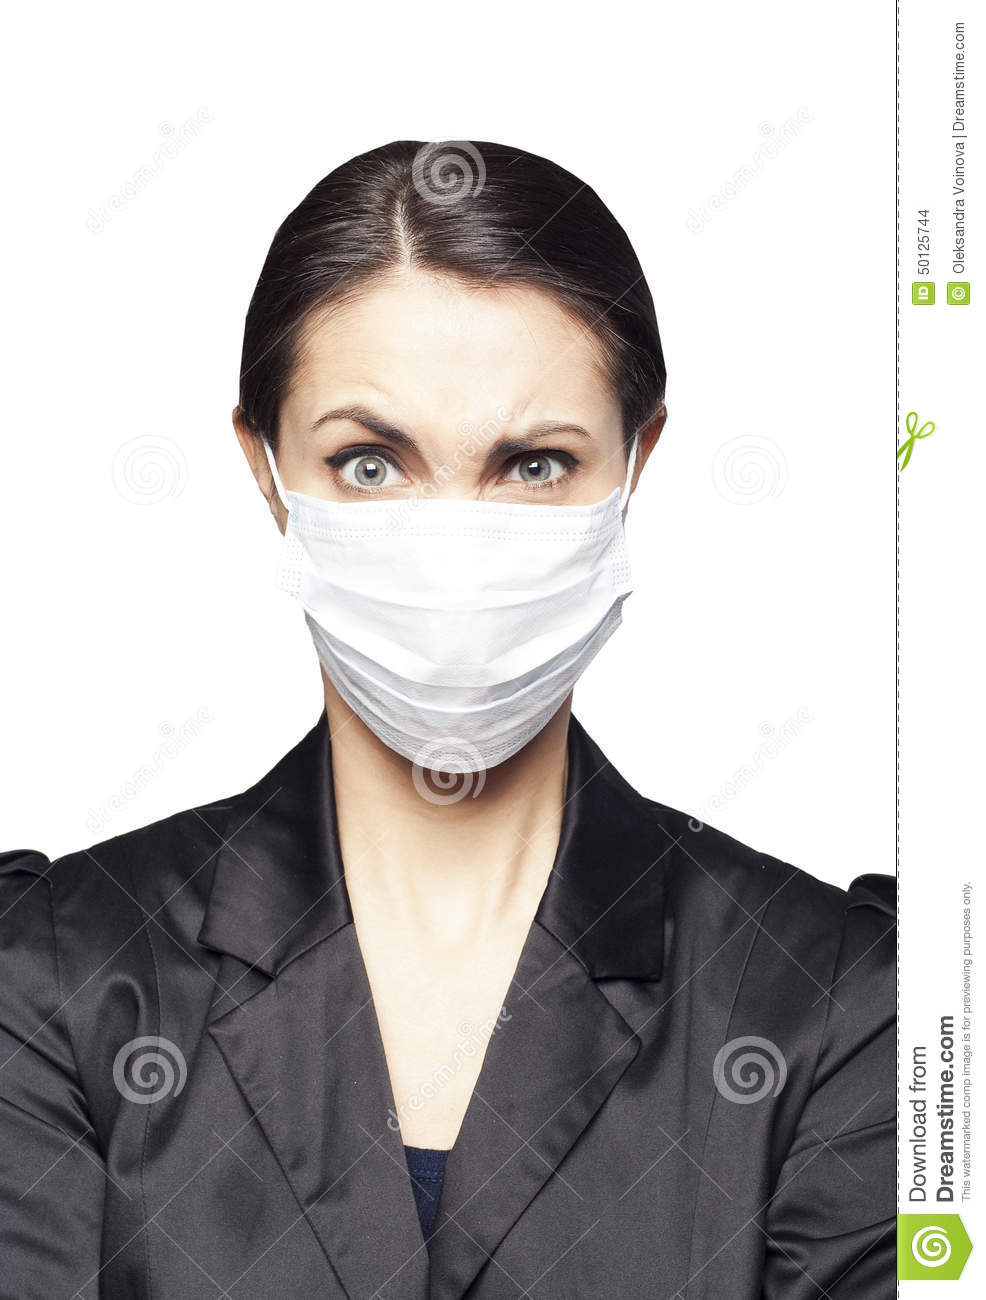mask: (284, 496, 626, 777)
